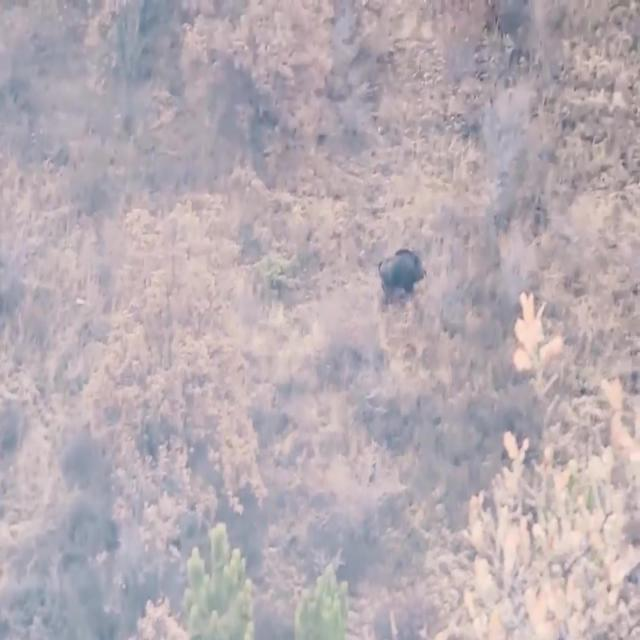pig: (366, 219, 438, 311)
